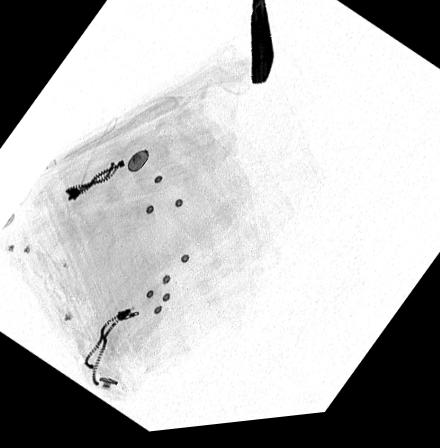Lighter: (250, 0, 276, 88)
